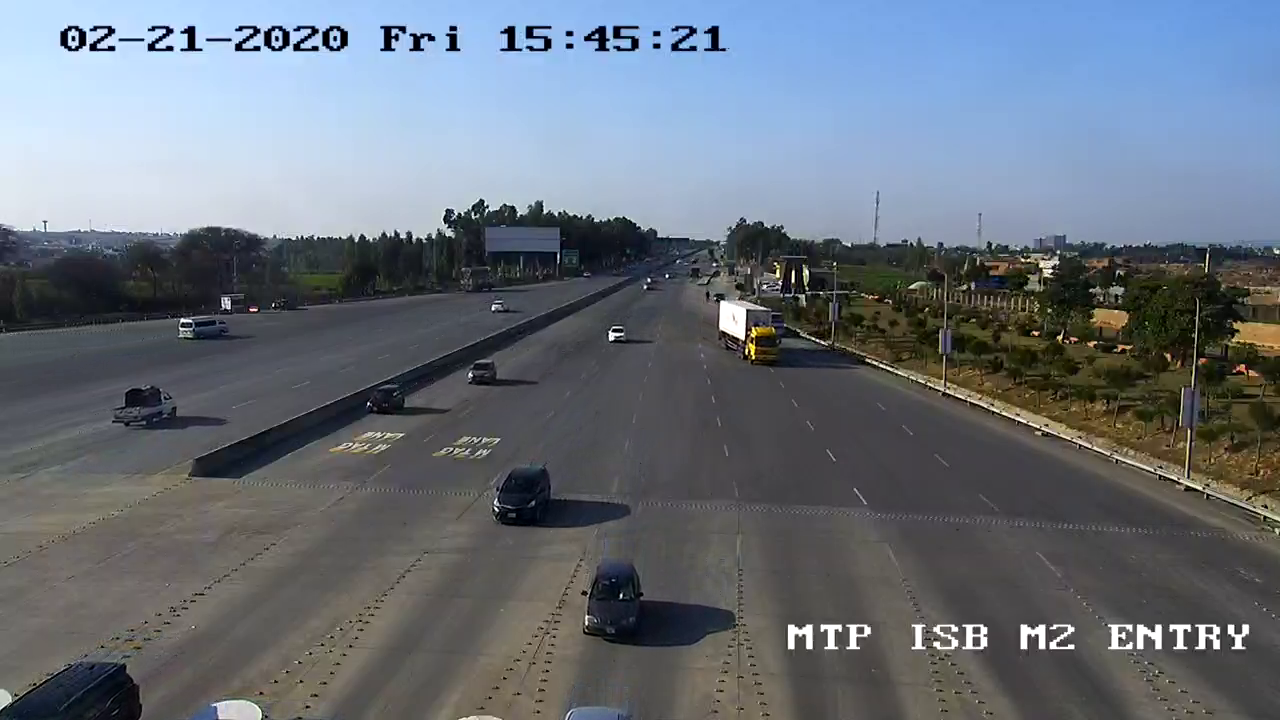f1: (575, 551, 652, 651), (485, 460, 557, 532)
